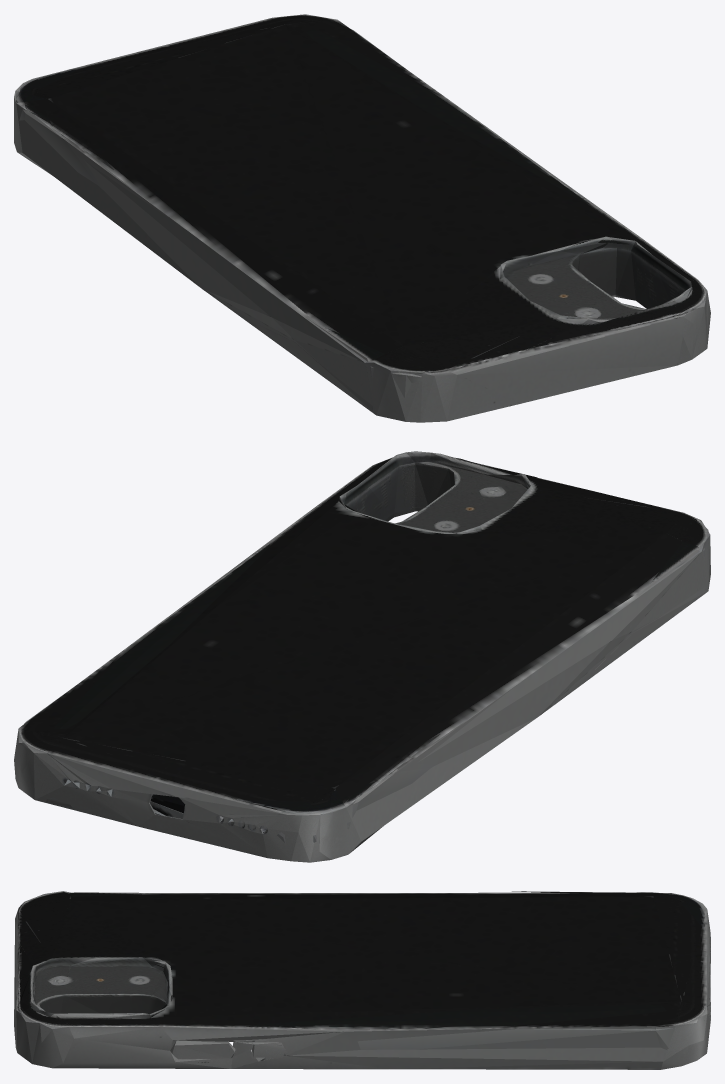
Rendered from remeshed-phone.glb.
3 renders of one model, top to bottom at view 1: azimuth 30°, elevation 25°; view 2: azimuth 150°, elevation 25°; view 3: azimuth 270°, elevation 25°, orthographic. The views are drawn at different scales.
Parts seen in each view (by area): view 1: output_unwrapped; view 2: output_unwrapped; view 3: output_unwrapped.
Part boxes in pixels (bbox=[...]): output_unwrapped: bbox=[14, 14, 710, 422]; output_unwrapped: bbox=[14, 451, 710, 862]; output_unwrapped: bbox=[14, 891, 710, 1069].
Bounding box in the file's own units: 0.9072 × 0.1503 × 1.9.
Materials: 1 (1 with a texture image).
